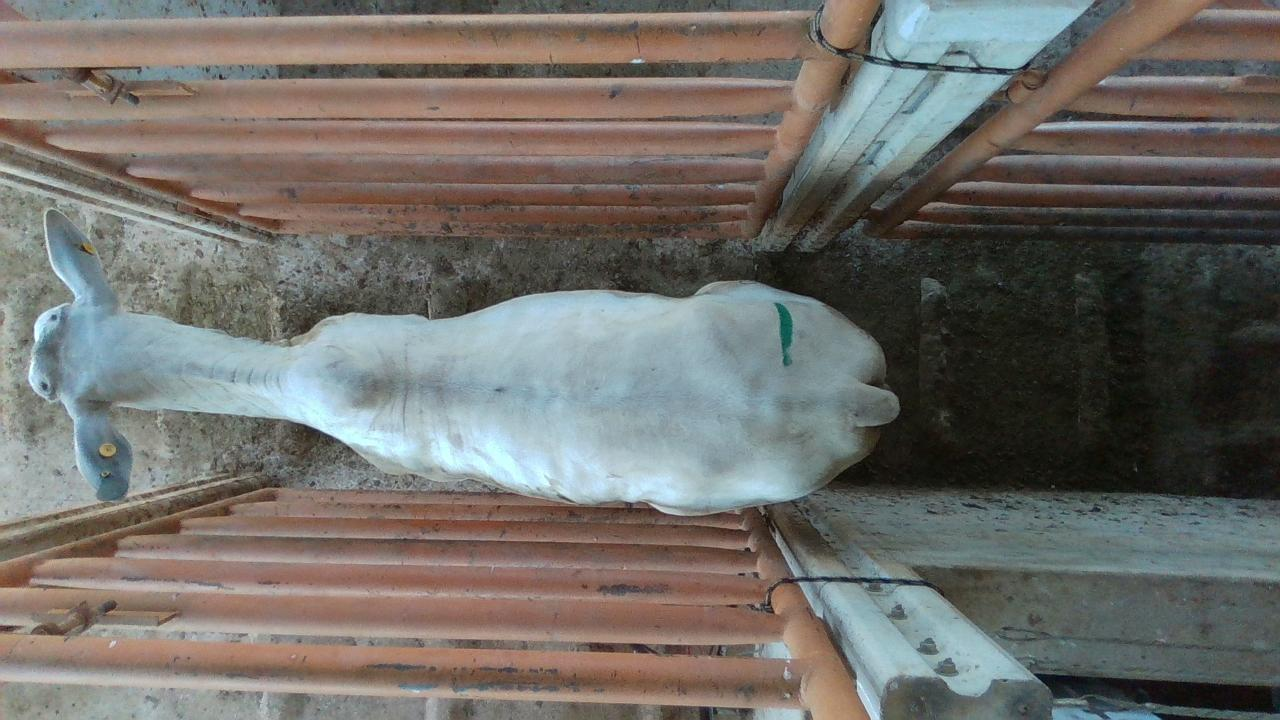cattle: (26, 205, 901, 516)
